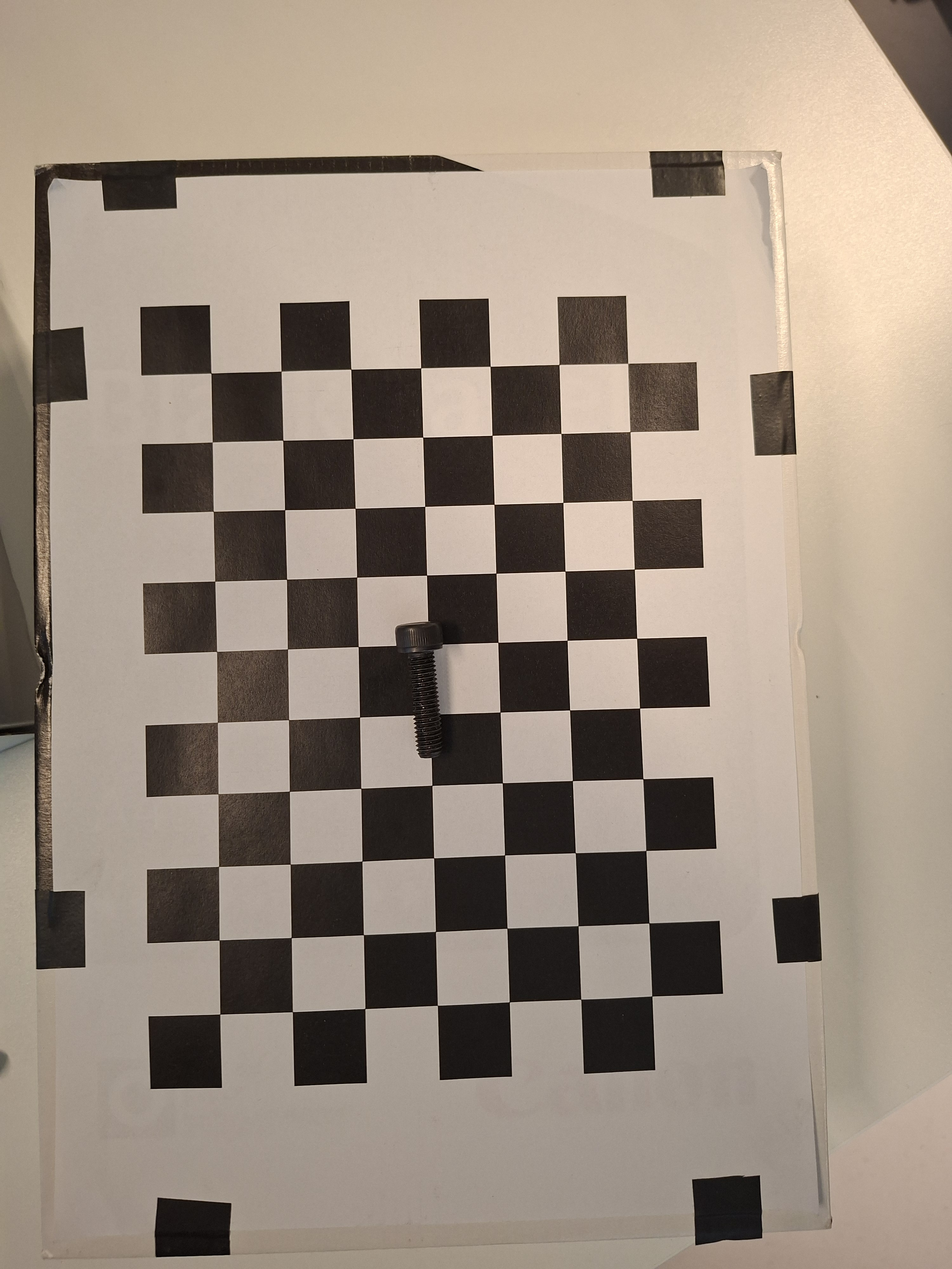allen_screw: (387, 618, 463, 759)
